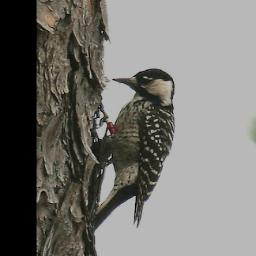Woodpecker: (87, 68, 175, 232)
